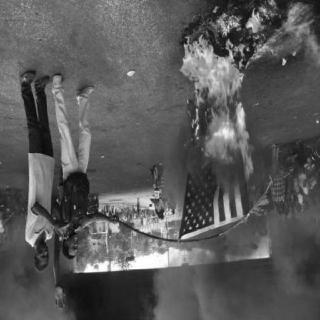Fire: (180, 10, 274, 189)
Smoke: (157, 257, 243, 317)
other: (215, 182, 251, 226)
